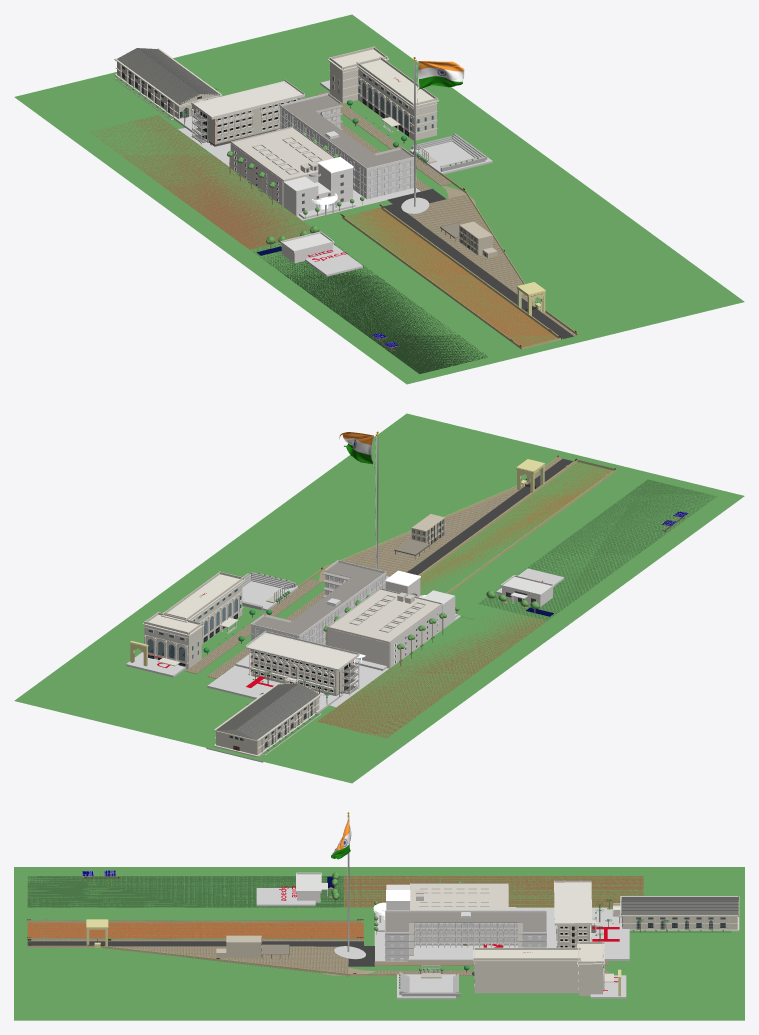
File: campus.glb
3 renders of one model, top to bottom at view 1: azimuth 30°, elevation 25°; view 2: azimuth 150°, elevation 25°; view 3: azimuth 270°, elevation 25°, orthographic. The views are drawn at different scales.
Visible parts, largest first — view 1: Plane.001, ground area, sand area, right side d building, Cube.002, back_floor1_window_aligned_bay_01_bottom_border, Wide_Overhanging_Roof_Slab, Right_Roof_Parapet, RearExtension_RoofDeck, roof_corrugation_rib_R_12, gate to circle, wall_top_east (+16 smaller); view 2: Plane.001, ground area, right side d building, Cube.002, back_floor1_window_aligned_bay_01_bottom_border, sand area, Wide_Overhanging_Roof_Slab, RearExtension_RoofDeck, roof_corrugation_rib_R_12, Right_Roof_Parapet, RightRear_SmoothWallOverlay, roof_top (+14 smaller); view 3: Plane.001, Cube.002, ground area, sand area, Right_Roof_Parapet, right side d building, bush left side entrance.002, RearExtension_RoofDeck, wall_top_east, roof_corrugation_rib_R_12, roof_top, back_floor1_window_aligned_bay_01_bottom_border (+16 smaller).
Boxes of the visible parts, box(x1,y1,x2,y2) form: Plane.001: box(14, 14, 744, 384); ground area: box(90, 115, 311, 249); sand area: box(342, 208, 557, 346); right side d building: box(300, 92, 576, 339); Cube.002: box(173, 80, 543, 295); back_floor1_window_aligned_bay_01_bottom_border: box(191, 79, 304, 144); Wide_Overhanging_Roof_Slab: box(327, 49, 438, 134); Right_Roof_Parapet: box(329, 46, 437, 140); RearExtension_RoofDeck: box(233, 127, 333, 179); roof_corrugation_rib_R_12: box(117, 48, 219, 104); gate to circle: box(383, 188, 573, 338); wall_top_east: box(280, 108, 413, 199); Plane.001: box(14, 413, 744, 783); ground area: box(317, 612, 546, 738); right side d building: box(185, 458, 573, 678); Cube.002: box(126, 568, 564, 762); back_floor1_window_aligned_bay_01_bottom_border: box(245, 630, 359, 695); sand area: box(420, 462, 610, 593); Wide_Overhanging_Roof_Slab: box(142, 574, 245, 666); RearExtension_RoofDeck: box(327, 589, 440, 643); roof_corrugation_rib_R_12: box(216, 683, 318, 740); Right_Roof_Parapet: box(144, 571, 243, 668); RightRear_SmoothWallOverlay: box(327, 605, 442, 668); roof_top: box(254, 562, 383, 635); Plane.001: box(14, 867, 744, 1020); Cube.002: box(256, 888, 629, 999); ground area: box(343, 876, 643, 907); sand area: box(27, 922, 363, 939); Right_Roof_Parapet: box(473, 941, 604, 995); right side d building: box(27, 940, 608, 976); bush left side entrance.002: box(27, 919, 397, 976); RearExtension_RoofDeck: box(410, 884, 507, 910); wall_top_east: box(385, 912, 546, 960); roof_corrugation_rib_R_12: box(621, 896, 738, 916); roof_top: box(385, 912, 546, 934); back_floor1_window_aligned_bay_01_bottom_border: box(554, 880, 597, 947).
Size of the model in its own units: 185 by 80.06 by 372.
Materials: 109 (8 with a texture image).
